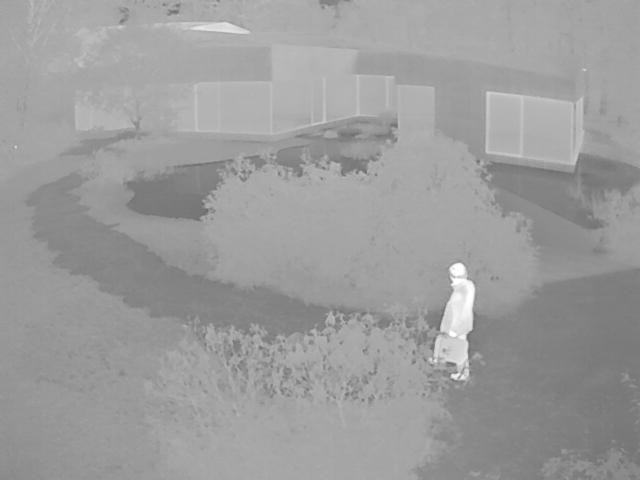person: (427, 261, 478, 380)
